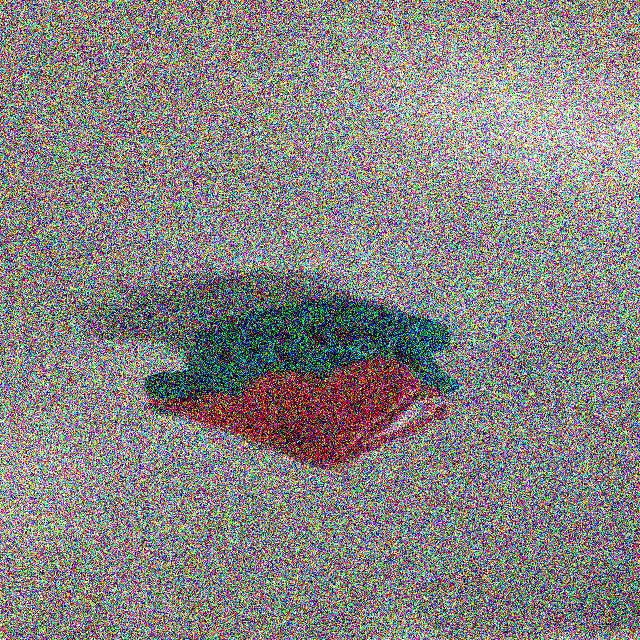House: (133, 288, 483, 480)
